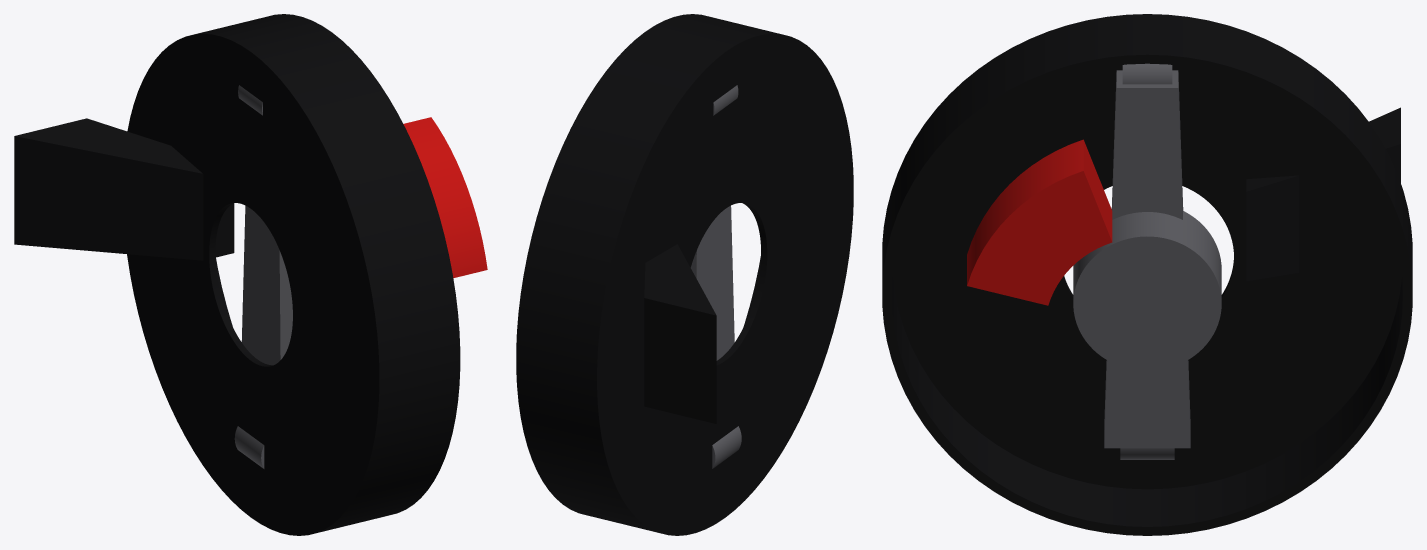
Rendered from wheel_upright_rear.glb.
3 renders of one model, left to right at view 1: azimuth 30°, elevation 25°; view 2: azimuth 150°, elevation 25°; view 3: azimuth 270°, elevation 25°, orthographic. The views are drawn at different scales.
Parts seen in each view (by area): view 1: wheel_upright_rear; view 2: wheel_upright_rear; view 3: wheel_upright_rear.
Part boxes in pixels (x1,y1,x2,y2): wheel_upright_rear: [14, 14, 487, 535]; wheel_upright_rear: [516, 14, 853, 535]; wheel_upright_rear: [882, 14, 1412, 535].
Size of the model in its own units: 0.254 by 0.4292 by 0.4289.
